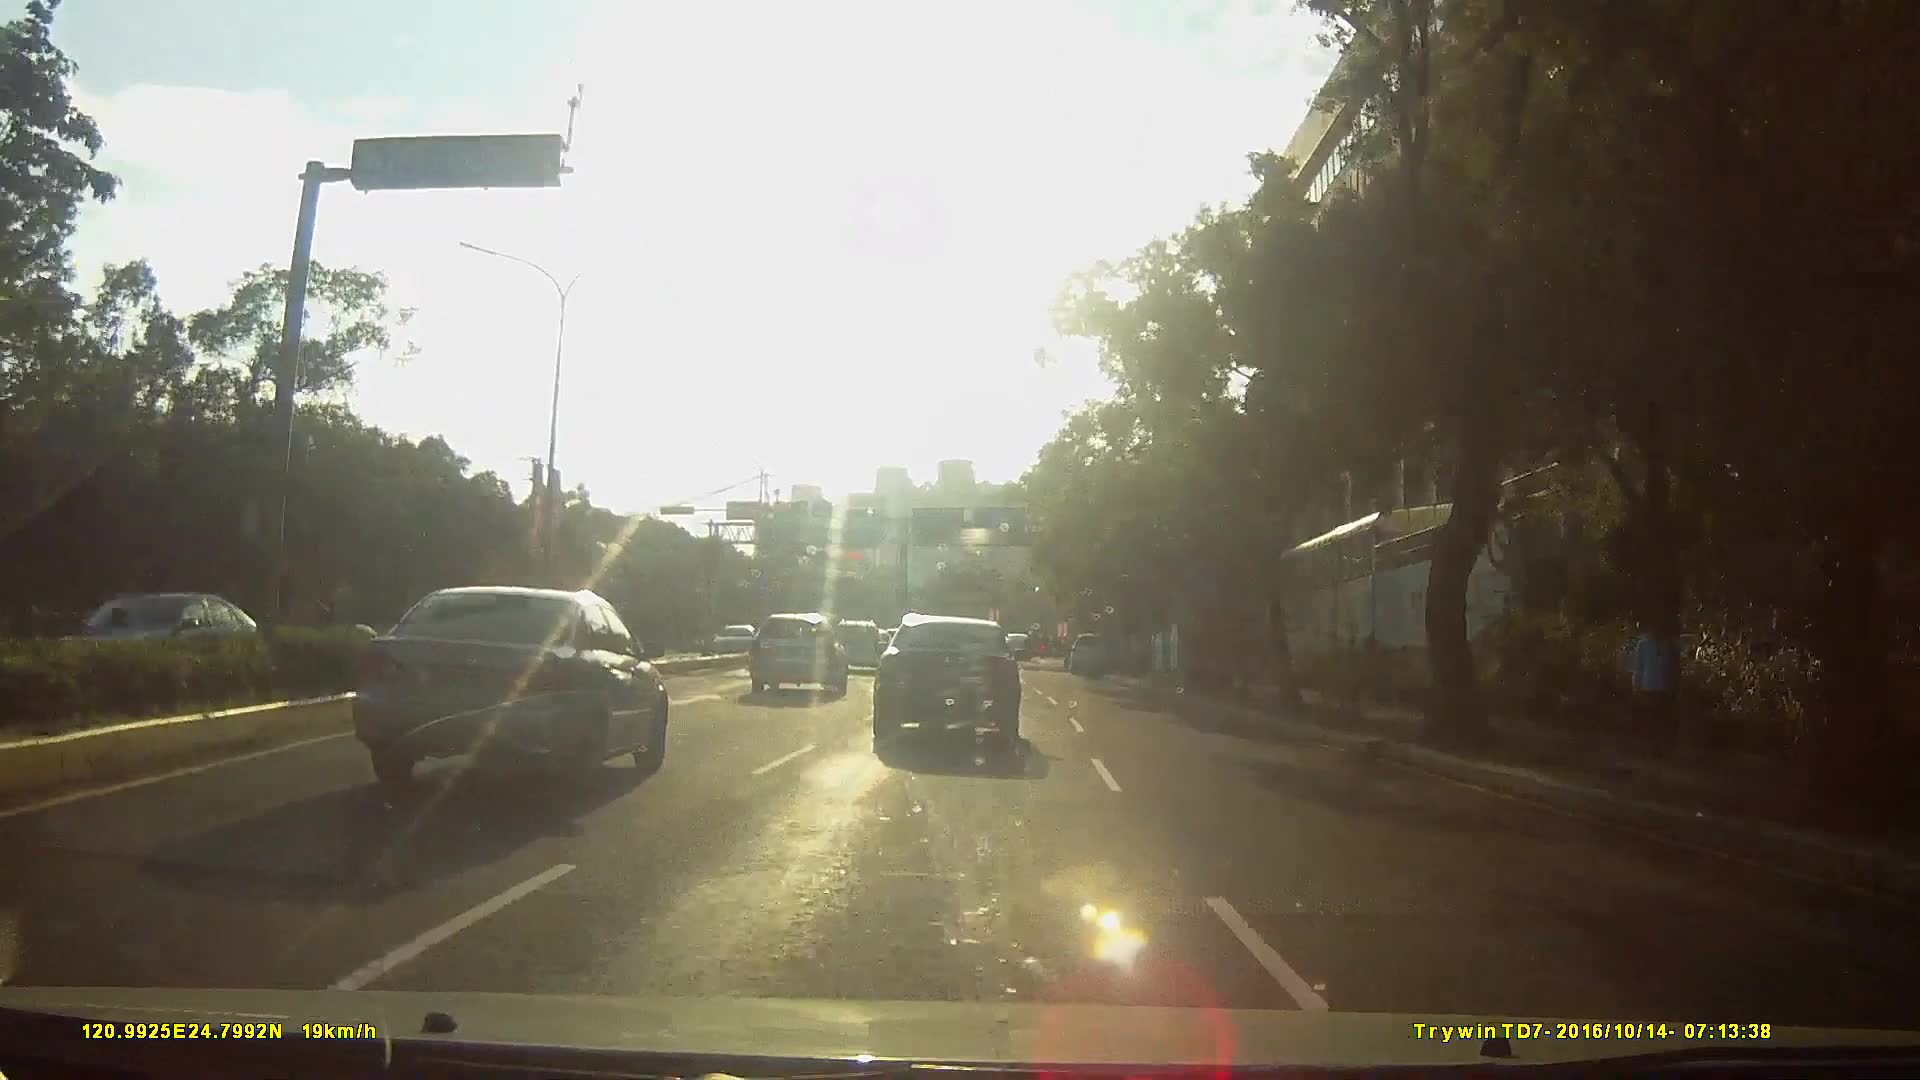pedestrian: (1629, 602, 1687, 765)
vehicle: (333, 582, 662, 800), (51, 590, 286, 698), (869, 613, 1037, 757), (742, 611, 843, 700), (824, 615, 880, 673), (1065, 630, 1116, 677), (709, 620, 763, 661)
